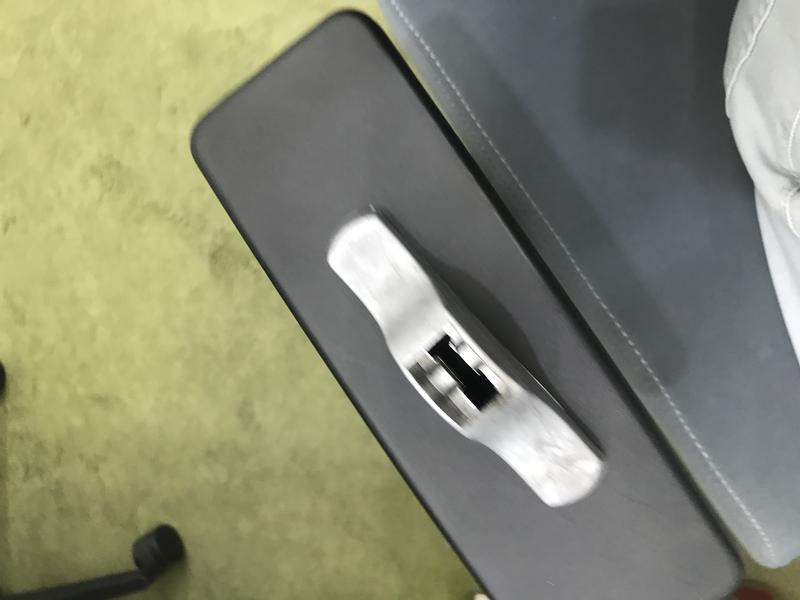zapchast: (307, 195, 622, 526)
